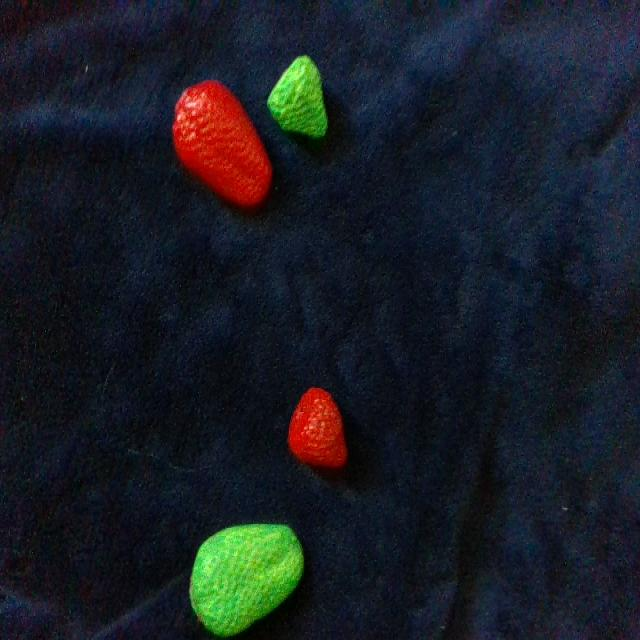chica_roja: (289, 388, 346, 467)
grande_roja: (174, 81, 271, 205)
verde: (190, 525, 303, 636), (268, 56, 327, 137)
